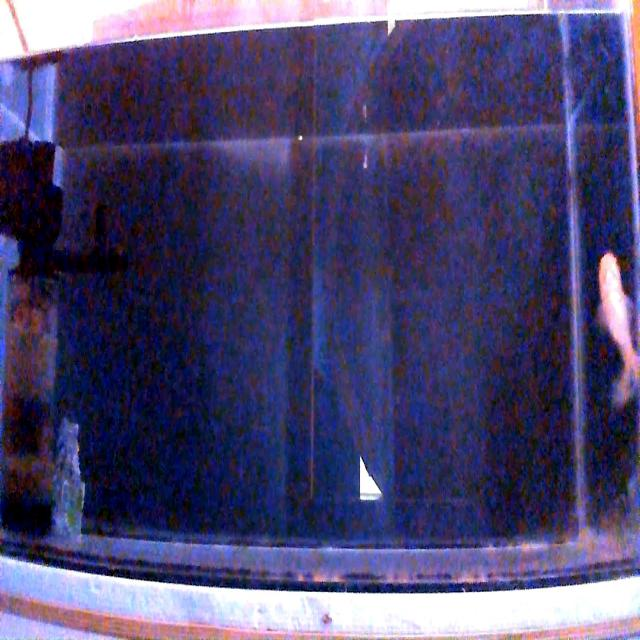fish: (595, 250, 639, 401)
